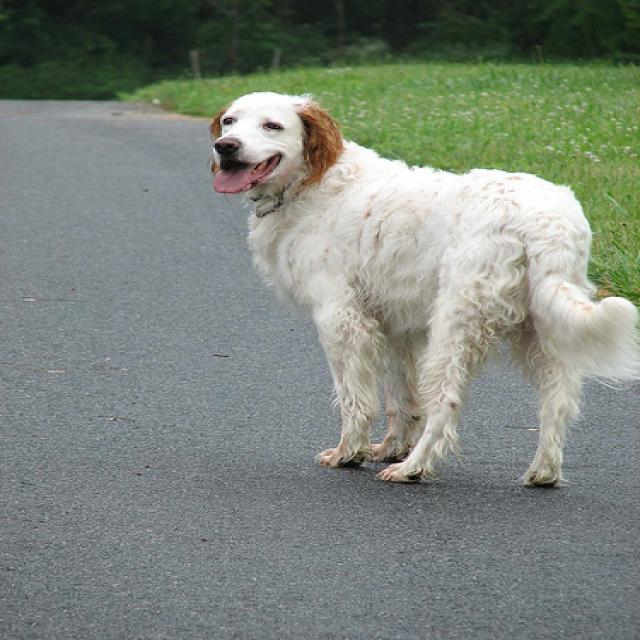dog-english_setter: (198, 81, 637, 495)
